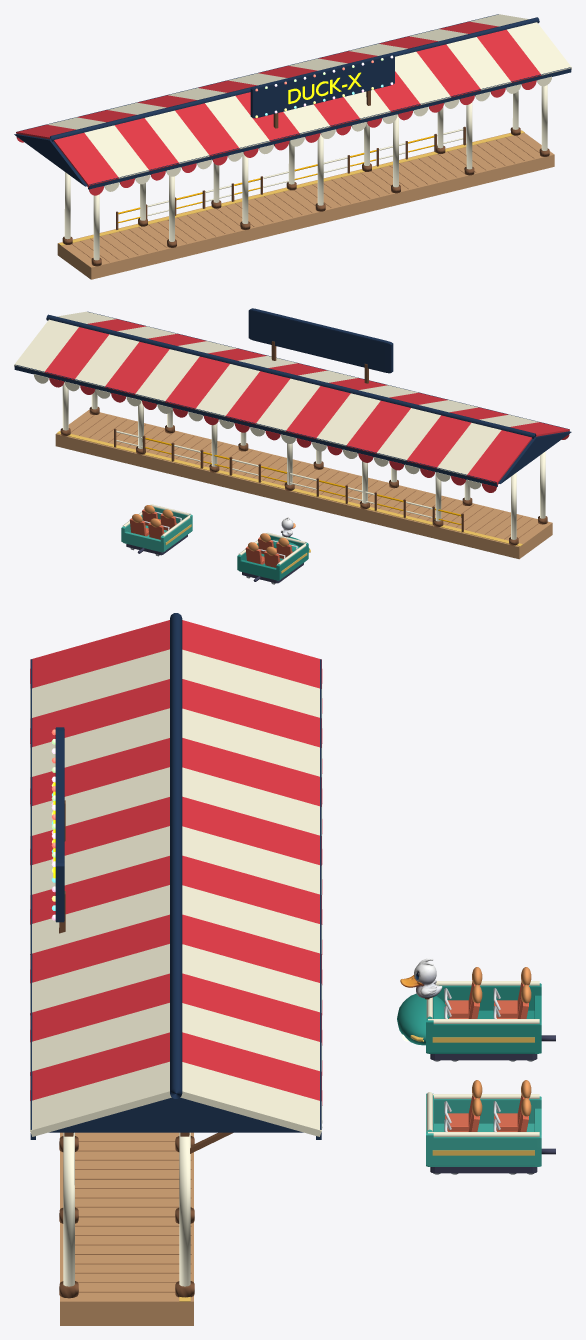
File: duck_x.glb
3 renders of one model, top to bottom at view 1: azimuth 30°, elevation 25°; view 2: azimuth 150°, elevation 25°; view 3: azimuth 270°, elevation 25°, orthographic. The views are drawn at different scales.
Visible parts, largest first — view 1: station_toon_fefae0, station_toon_d4a373, station_toon_e63946, station_toon_1d3557, station_toon_7f5539, station_toon_b5835a, station_toon_ffd166, station_toon_ffb703, station_glow_ffd60a; view 2: station_toon_fefae0, station_toon_e63946, station_toon_d4a373, station_toon_1d3557, station_toon_7f5539, station_toon_b5835a, station_toon_ffd166, front_toon_2a9d8f, car_toon_40b5a6, car_toon_e76f51, front_toon_e76f51, station_toon_ffb703; view 3: station_toon_fefae0, station_toon_e63946, station_toon_d4a373, station_toon_1d3557, front_toon_2a9d8f, car_toon_40b5a6, station_toon_b5835a, station_toon_7f5539, car_toon_fefae0, car_toon_e76f51, front_toon_e76f51, front_toon_fefae0 (+1 smaller).
Part boxes in pixels (<box>): station_toon_fefae0: <box>47,14,571,260</box>; station_toon_d4a373: <box>57,130,554,279</box>; station_toon_e63946: <box>16,21,541,195</box>; station_toon_1d3557: <box>14,14,571,189</box>; station_toon_7f5539: <box>62,90,549,266</box>; station_toon_b5835a: <box>72,135,539,262</box>; station_toon_ffd166: <box>58,130,524,245</box>; station_toon_ffb703: <box>118,135,434,222</box>; station_glow_ffd60a: <box>288,72,361,104</box>; station_toon_fefae0: <box>14,311,545,539</box>; station_toon_e63946: <box>44,319,569,492</box>; station_toon_d4a373: <box>55,409,552,559</box>; station_toon_1d3557: <box>14,308,571,486</box>; station_toon_7f5539: <box>60,341,547,545</box>; station_toon_b5835a: <box>70,415,538,541</box>; station_toon_ffd166: <box>56,431,522,546</box>; front_toon_2a9d8f: <box>237,535,309,580</box>; car_toon_40b5a6: <box>121,507,192,552</box>; car_toon_e76f51: <box>129,509,177,539</box>; front_toon_e76f51: <box>245,537,292,567</box>; station_toon_ffb703: <box>145,438,461,524</box>; station_toon_fefae0: <box>30,649,322,1286</box>; station_toon_e63946: <box>30,620,322,1105</box>; station_toon_d4a373: <box>60,1132,193,1325</box>; station_toon_1d3557: <box>30,613,321,1139</box>; front_toon_2a9d8f: <box>397,983,541,1053</box>; car_toon_40b5a6: <box>426,1093,541,1166</box>; station_toon_b5835a: <box>75,1141,191,1292</box>; station_toon_7f5539: <box>59,800,233,1298</box>; car_toon_fefae0: <box>426,1092,539,1136</box>; car_toon_e76f51: <box>445,1094,528,1131</box>; front_toon_e76f51: <box>445,981,528,1018</box>; front_toon_fefae0: <box>426,981,539,1023</box>.
Size of the model in its own units: 25.29 by 7.68 by 11.8.
24 materials, 1 textured.
